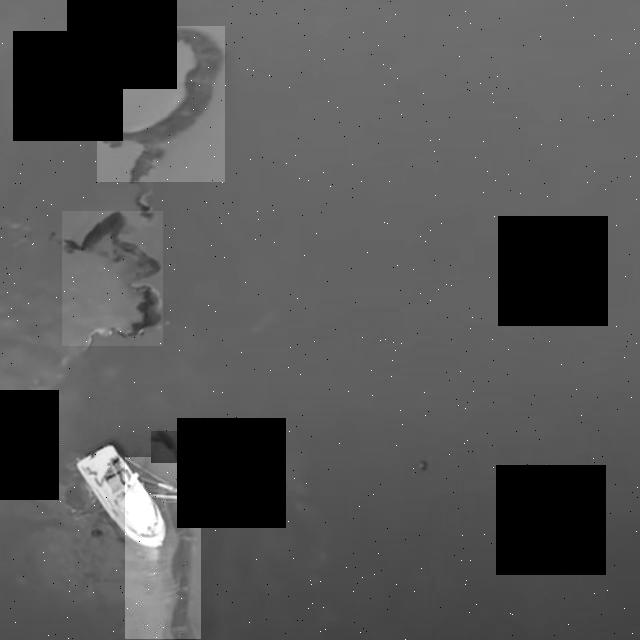oil spill: (97, 26, 225, 182), (125, 458, 201, 639), (62, 211, 163, 346), (151, 432, 184, 463), (47, 105, 73, 122)
